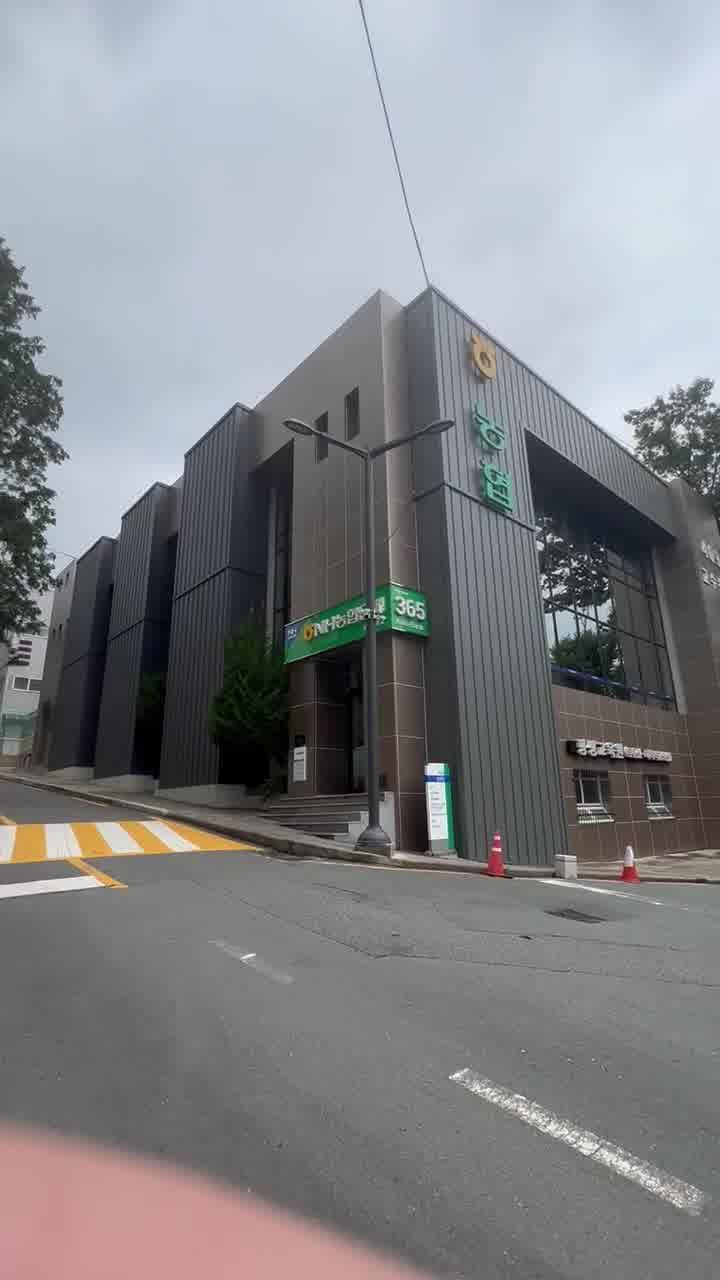building: (84, 340, 666, 812)
